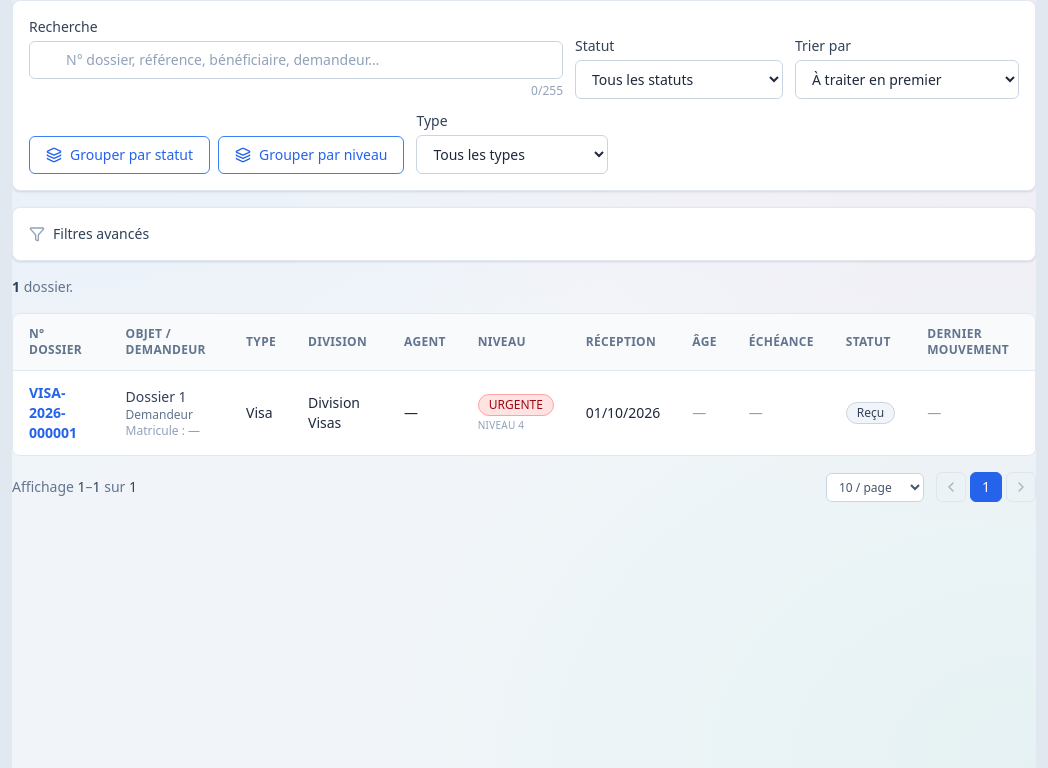
Test case: Liste des dossiers — regroupement par niveau › bascule d’un regroupement à l’autre sans superposer les sections
Expected: the link "VISA-2026-000001" is shown, [29, 383, 77, 442]
Click the button "Grouper par niveau" at (311, 155), box [218, 136, 404, 174]
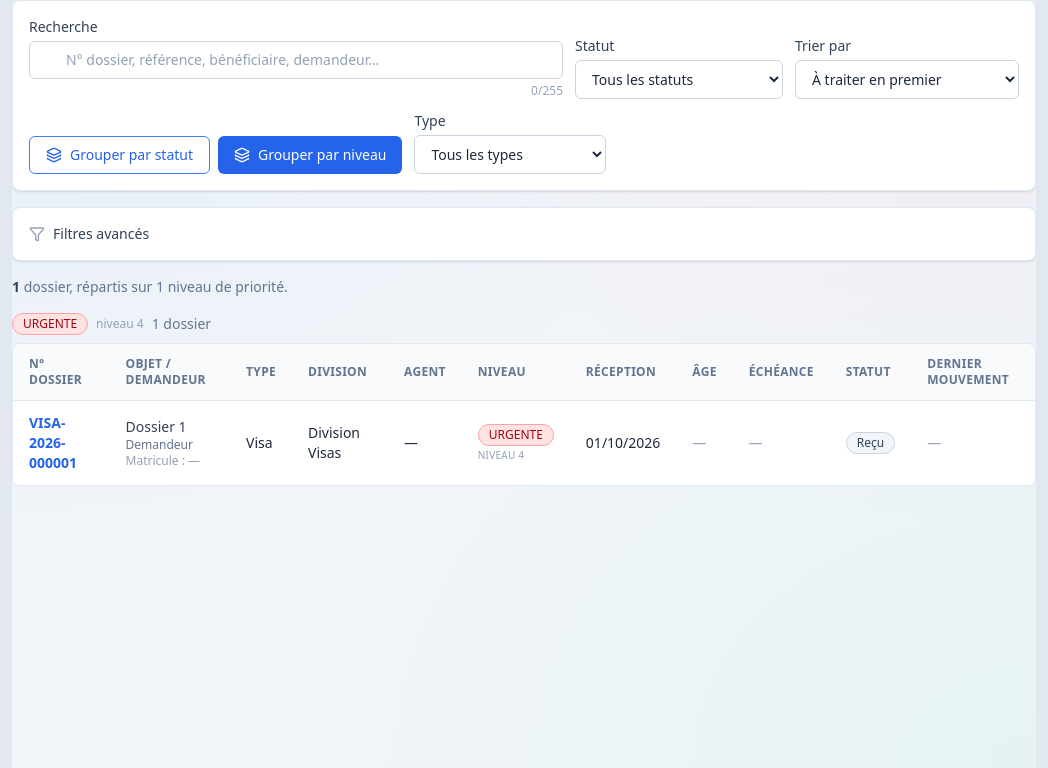
Result: the element named "Dossiers URGENTE" is shown at [12, 313, 1036, 486]
Click the button "Grouper par statut" at (120, 155), box [29, 136, 210, 174]
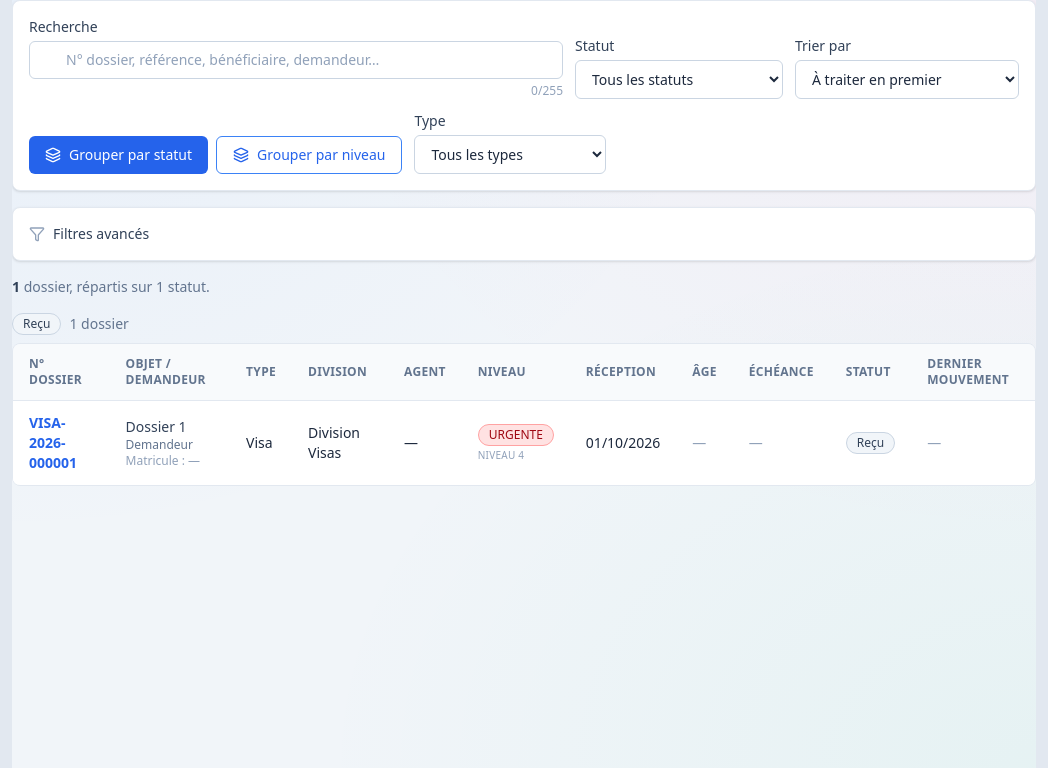
Result: the element named "Dossiers Reçu" is shown at [12, 313, 1036, 486]
